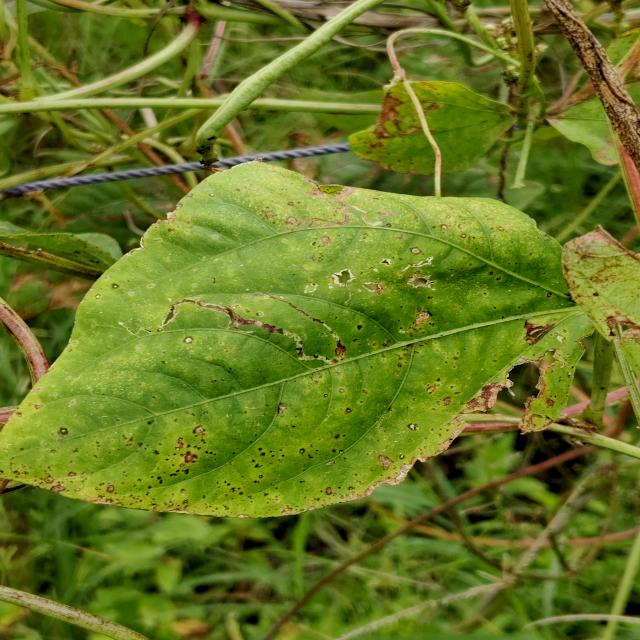sitaw-aphid-low: (35, 168, 586, 517)
sitaw-healthy: (195, 0, 384, 164)
